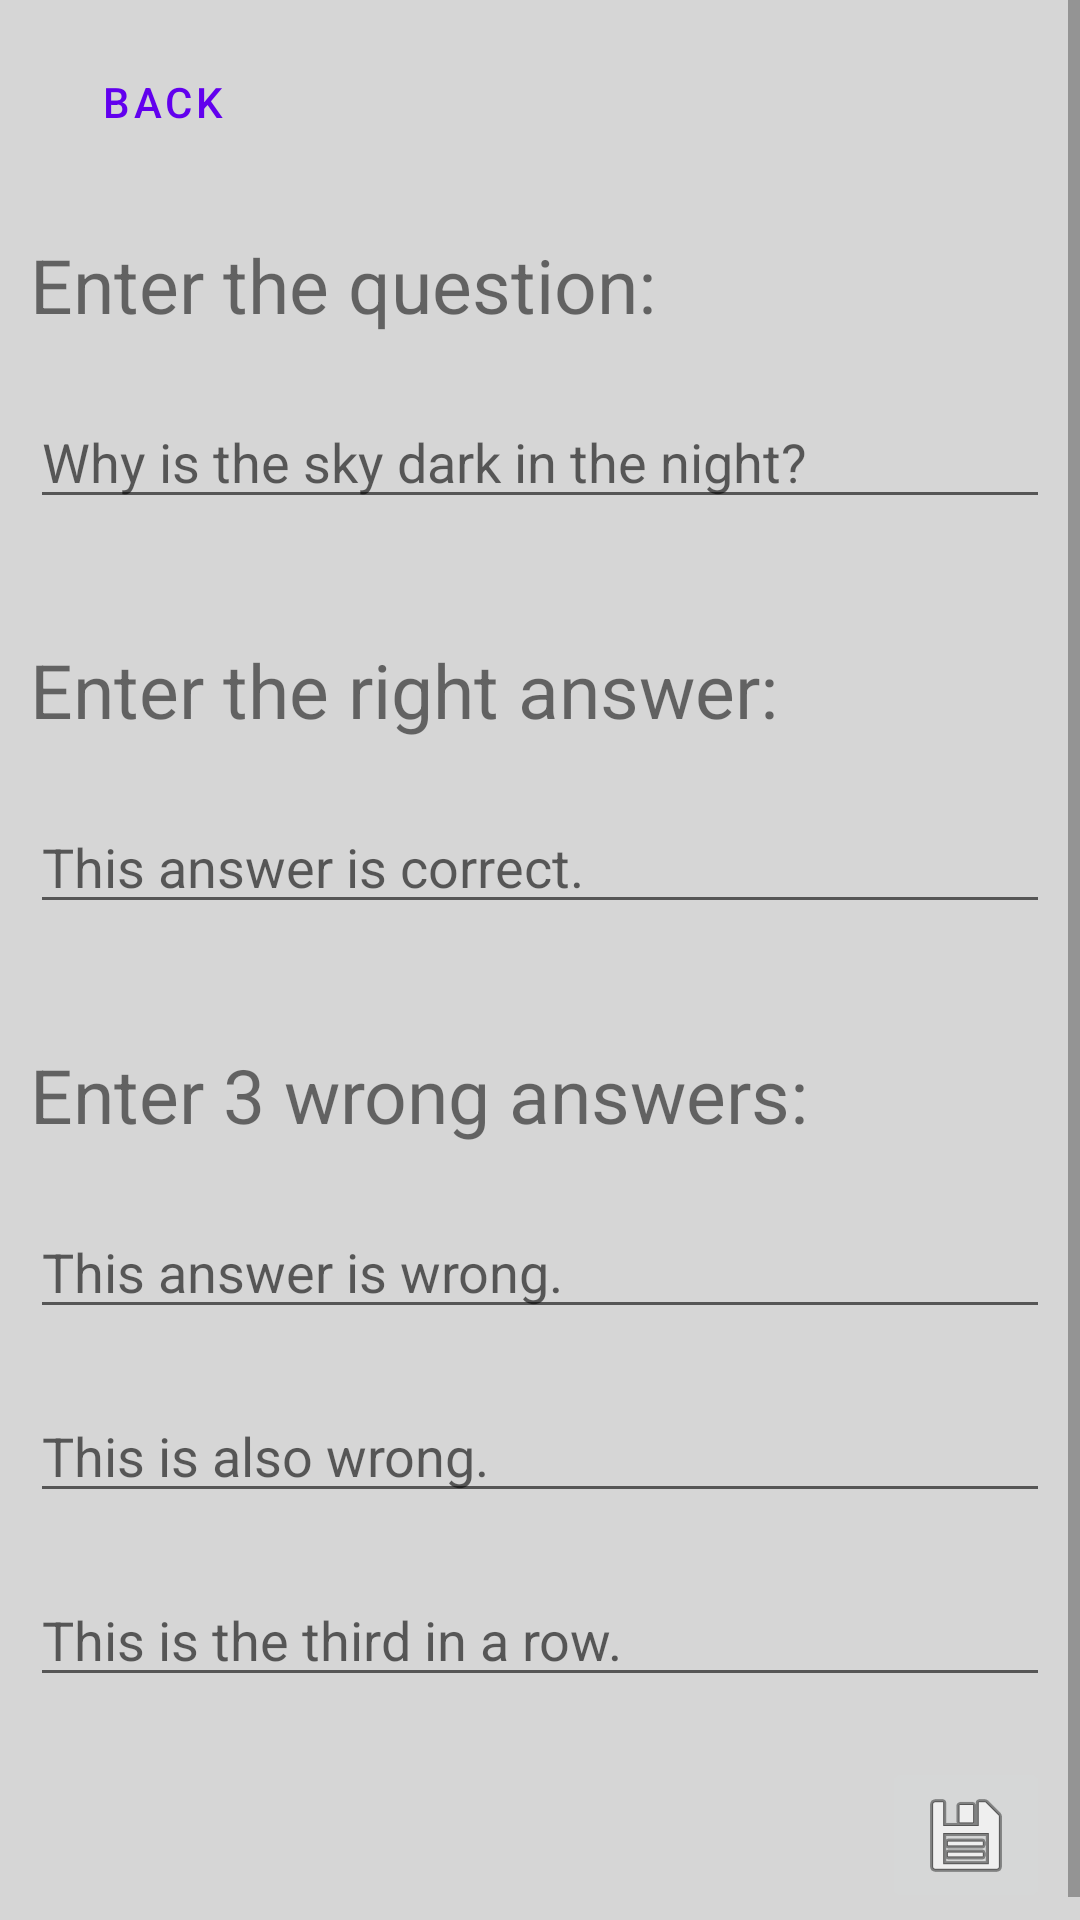

Named icons in this screenshot (1080px x 1920px) and their bounding boxes, box(x1, y1, x2, y2):
save: box(930, 1799, 1002, 1872)
